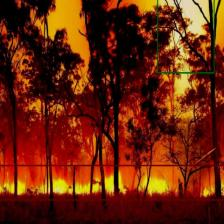fire: (0, 165, 224, 200)
